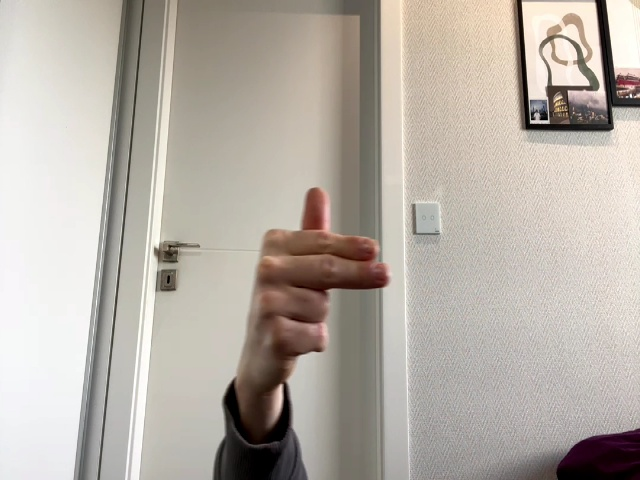N: (251, 188, 390, 375)
